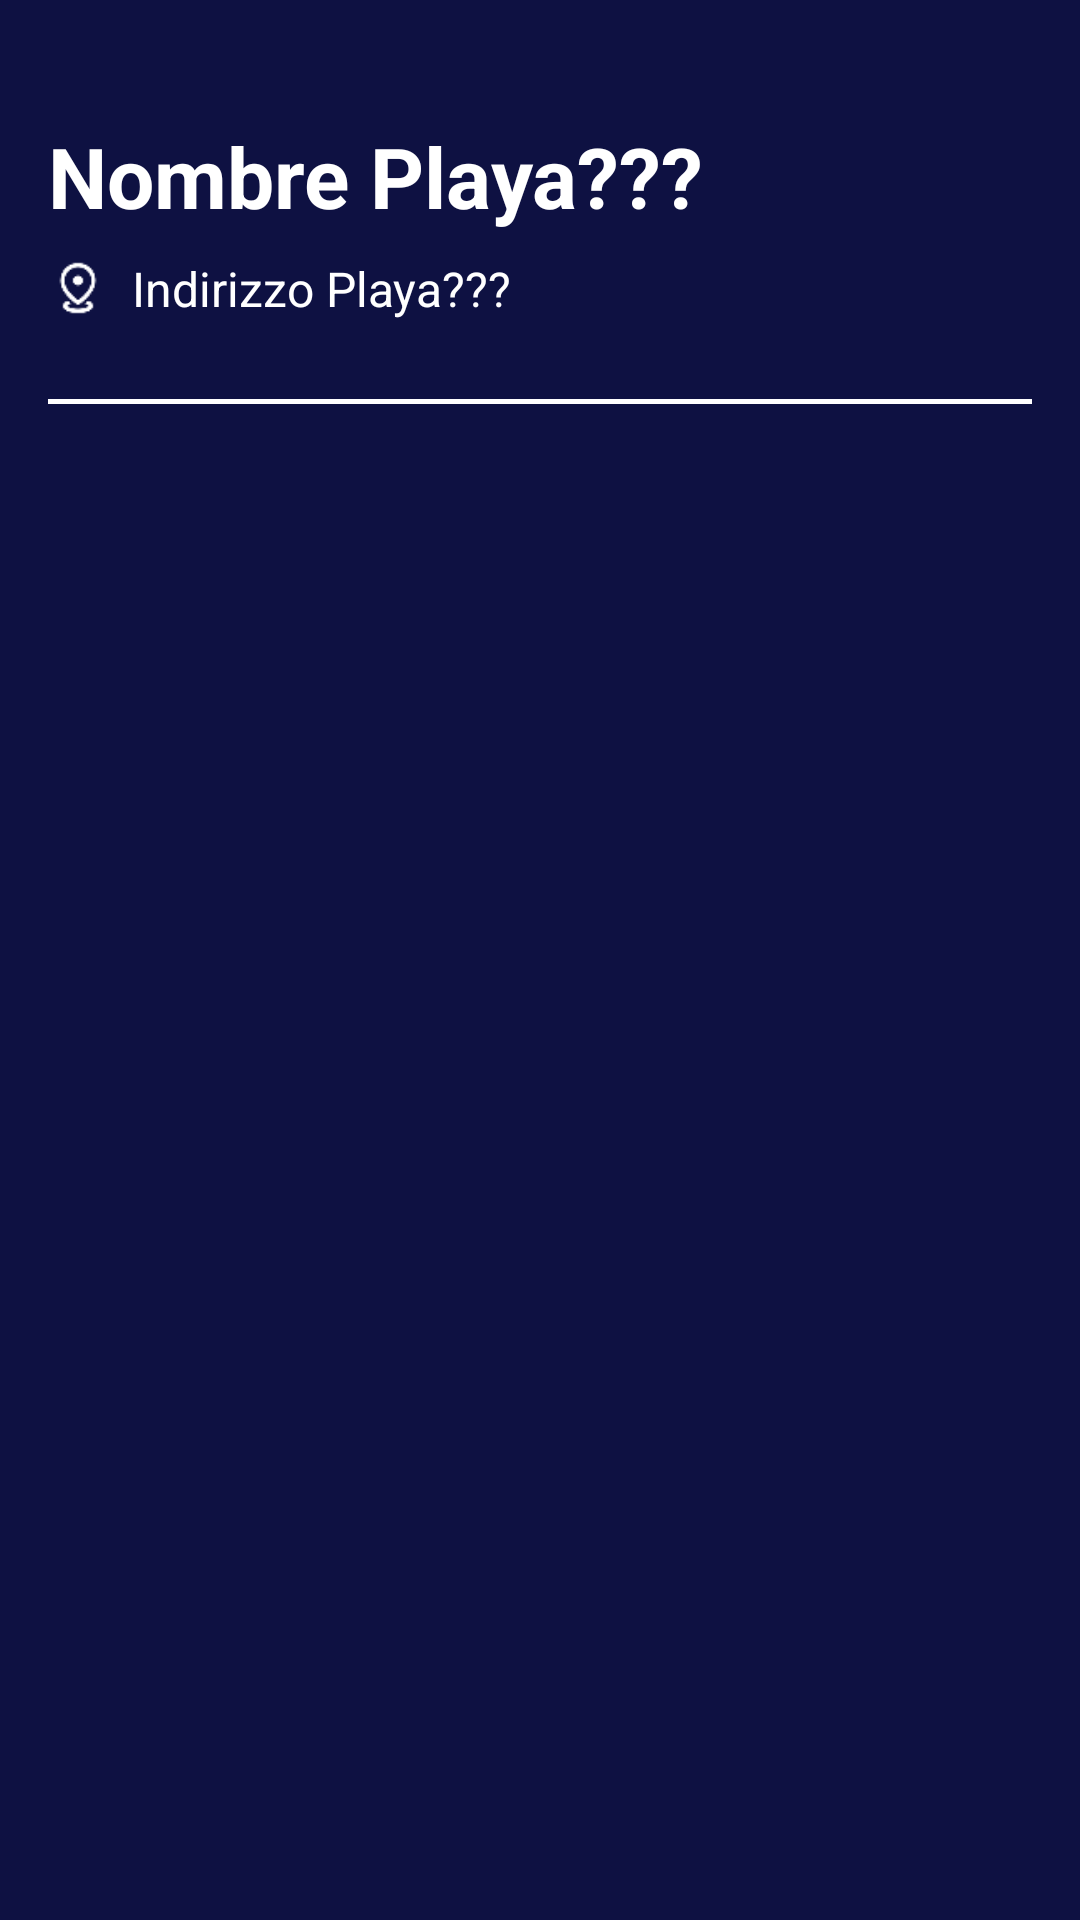

Named icons in this screenshot (1080 x 1920) and their centers, (x=x, y=y):
location: (x=78, y=288)
